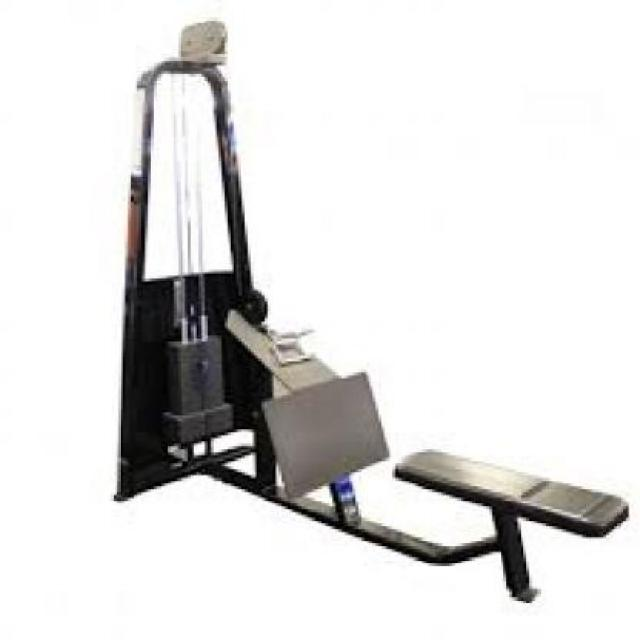Seated Cable Rows: (83, 5, 637, 609)
